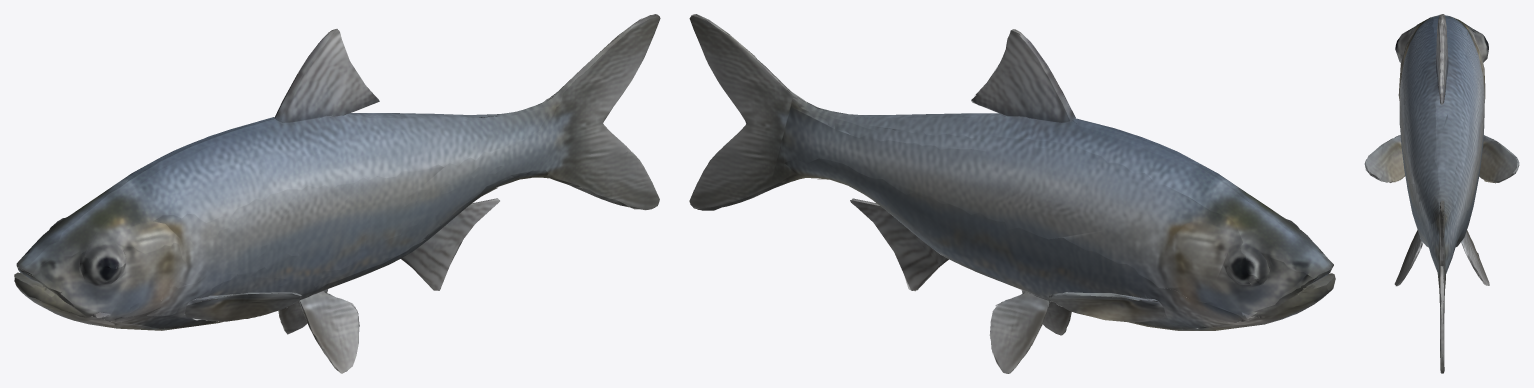
Rendered from baitfish_optimized.glb.
3 renders of one model, left to right at view 1: azimuth 30°, elevation 25°; view 2: azimuth 150°, elevation 25°; view 3: azimuth 270°, elevation 25°, orthographic. The views are drawn at different scales.
Parts seen in each view (by area): view 1: world; view 2: world; view 3: world.
Boxes of the visible parts, x1,y1,x2,y2 form: world: (14,14,660,373); world: (689,14,1335,373); world: (1364,14,1519,373).
Size of the model in its own units: 0.3001 by 0.1433 by 0.0721.
Materials: 1 (1 with a texture image).
